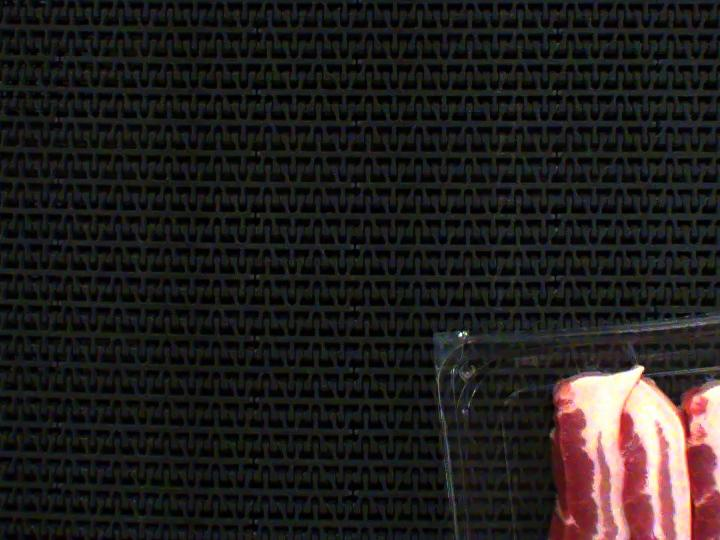packaging-error: (617, 333, 643, 370)
